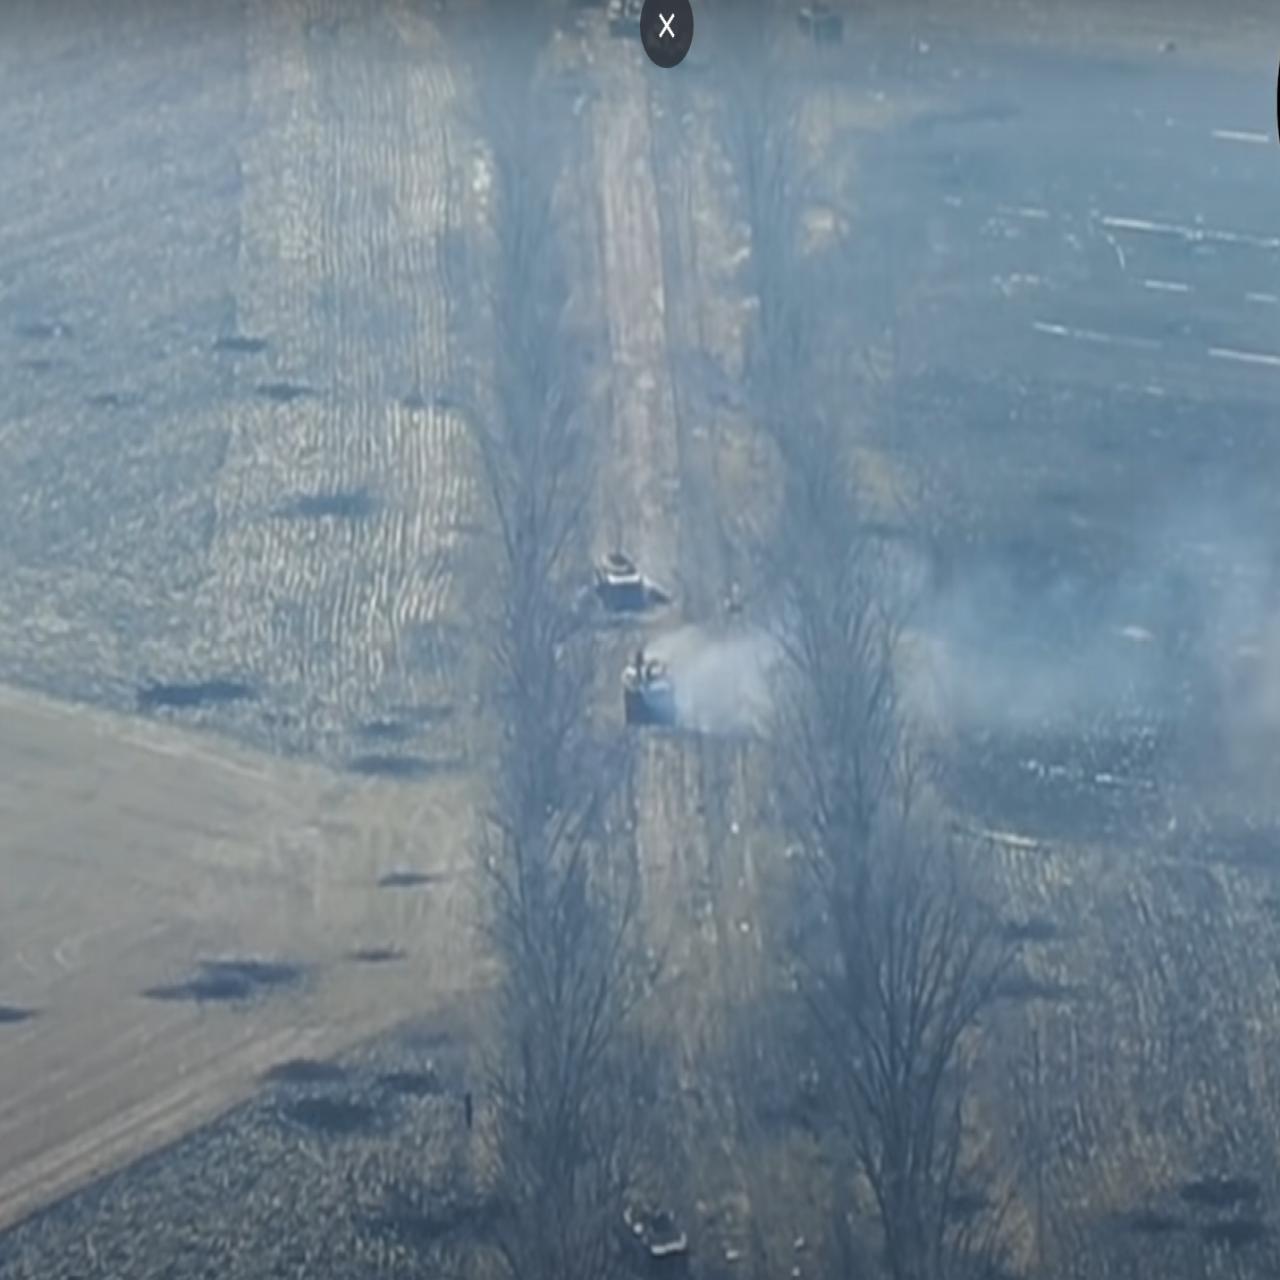MIL_Veh: (604, 651, 679, 729)
